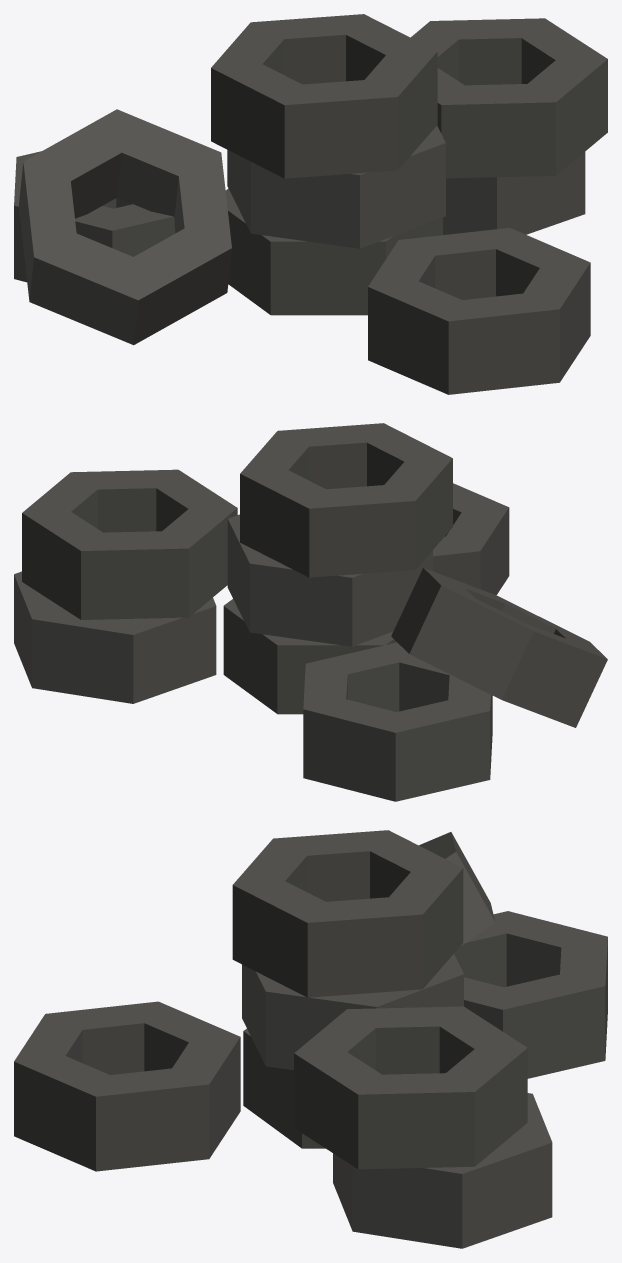
The model's file is SM_Screw-Nut.fbx.
The picture shows the model from 3 angles, top to bottom: view 1: azimuth 30°, elevation 25°; view 2: azimuth 150°, elevation 25°; view 3: azimuth 270°, elevation 25°; orthographic projection. The views are drawn at different scales.
Visible parts, largest first — view 1: SM_Screw-Nut; view 2: SM_Screw-Nut; view 3: SM_Screw-Nut.
Part boxes in pixels (x1=…): SM_Screw-Nut: x1=14, y1=14, x2=607, y2=394; SM_Screw-Nut: x1=14, y1=423, x2=607, y2=801; SM_Screw-Nut: x1=14, y1=830, x2=607, y2=1248.
Bounding box in the file's own units: 11.75 × 4.29 × 10.2.
